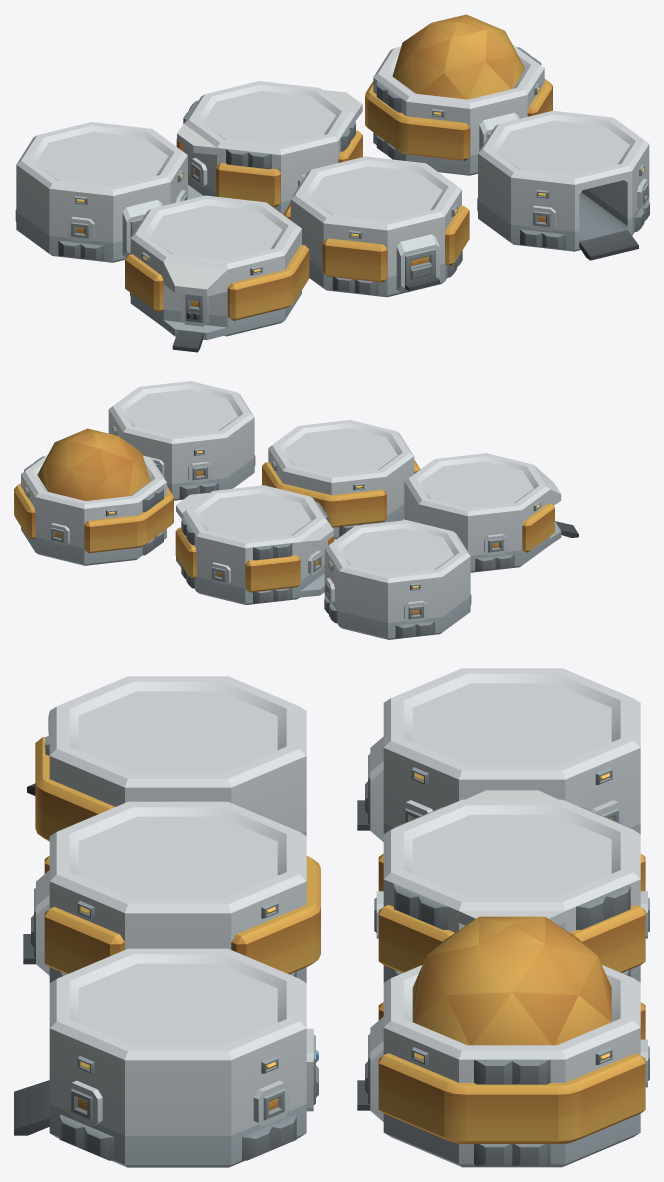
File: Space Base Modules by Kay Lousberg - 5TxCebwK2h.fbx
3 renders of one model, top to bottom at view 1: azimuth 30°, elevation 25°; view 2: azimuth 150°, elevation 25°; view 3: azimuth 270°, elevation 25°, orthographic. The views are drawn at different scales.
Visible parts, largest first — view 1: basemodule_A, basemodule_garage, basemodule_B, basemodule_E, basemodule_C, basemodule_D; view 2: basemodule_E, basemodule_D, basemodule_C, basemodule_A, basemodule_garage, basemodule_B; view 3: basemodule_E, basemodule_garage, basemodule_B, basemodule_D, basemodule_C, basemodule_A.
Part boxes in pixels (box(x1,y1,x2,y2)): basemodule_A: box(125, 195, 309, 352); basemodule_garage: box(477, 110, 649, 260); basemodule_B: box(283, 156, 469, 297); basemodule_E: box(365, 14, 552, 175); basemodule_C: box(15, 122, 187, 262); basemodule_D: box(176, 81, 362, 214); basemodule_E: box(14, 428, 173, 565); basemodule_D: box(175, 485, 334, 604); basemodule_C: box(324, 520, 471, 639); basemodule_A: box(404, 453, 578, 572); basemodule_garage: box(108, 381, 255, 500); basemodule_B: box(262, 420, 420, 539); basemodule_E: box(357, 916, 649, 1167); basemodule_garage: box(14, 948, 318, 1167); basemodule_B: box(23, 801, 320, 982); basemodule_D: box(374, 790, 649, 982); basemodule_C: box(357, 668, 640, 841); basemodule_A: box(27, 676, 306, 841).
Bounding box in the file's own units: 904 × 166 × 495.
Materials: 1 (1 with a texture image).
